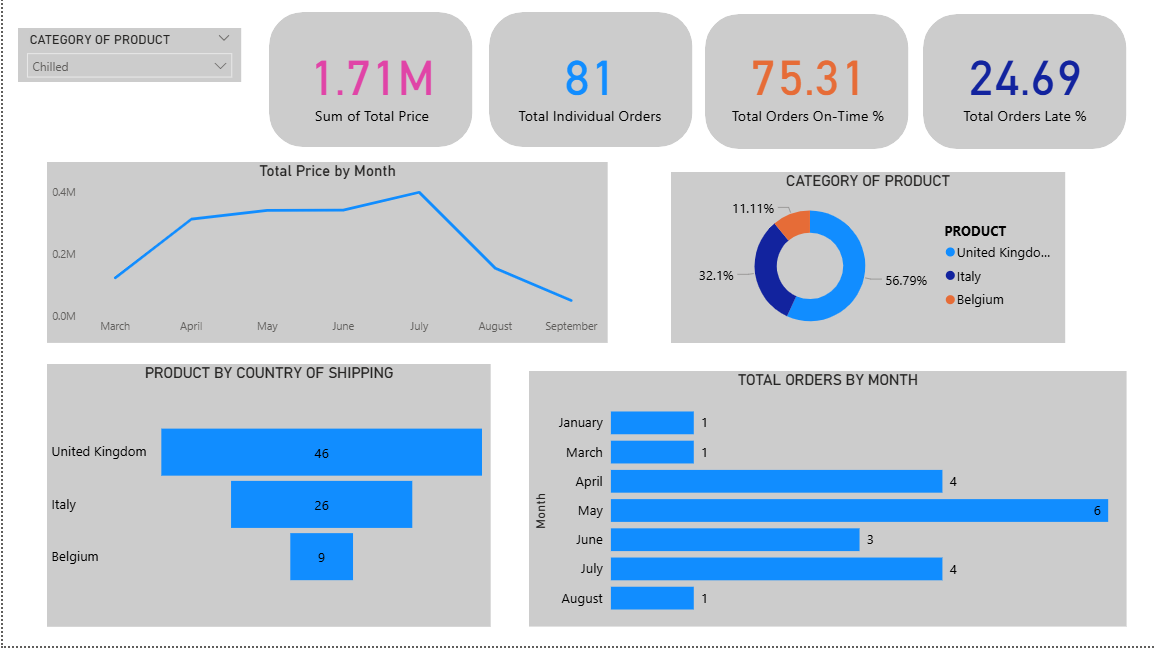

This screenshot's page, from the dashboard's own definition file:
{"tool":"powerbi","page":{"name":"CHILLED ITEMS","canvas":[1280,720],"ordinal":2},"visuals":[{"type":"shape","box":[1022,18,226,150],"z":0},{"type":"shape","box":[780,18,226,150],"z":1000},{"type":"shape","box":[540,16,226,150],"z":2000},{"type":"shape","box":[296,16,226,150],"z":3000},{"type":"slicer","fields":{"Values":["unique_category_of_product sheet.CATEGORY OF PRODUCT"]},"box":[16.7,33.3,247.8,60],"z":4000},{"type":"donutChart","title":"CATEGORY OF PRODUCT","fields":{"Y":["CountNonNull(deliveryScheduleCSV.PRODUCT)"],"Category":["deliveryScheduleCSV.COUNTRY OF SHIPPING"]},"box":[742.2,193.3,437.8,190],"z":5000},{"type":"barChart","title":"TOTAL ORDERS BY MONTH","fields":{"Y":["MeasureTable.Total Orders Late"],"Category":["deliveryScheduleCSV.DATE OF ORDER (D/M/Y).Variation.Date Hierarchy.Month"]},"box":[584,414,664,284],"z":6000},{"type":"card","fields":{"Values":["Sum(deliveryScheduleCSV.Total Price)"]},"box":[320,32,180,120],"z":7000},{"type":"funnel","title":"PRODUCT BY COUNTRY OF SHIPPING","fields":{"Y":["CountNonNull(deliveryScheduleCSV.PRODUCT)"],"Category":["unique_country_of_shipping sheet.COUNTRY OF SHIPPING"]},"box":[48.9,406.7,493.3,292.2],"z":8000},{"type":"card","fields":{"Values":["MeasureTable.Total Orders On-Time %"]},"box":[804,32,180,120],"z":9000},{"type":"card","fields":{"Values":["MeasureTable.Total Orders Late %"]},"box":[1046,32,180,120],"z":10000},{"type":"card","fields":{"Values":["MeasureTable.Total Individual Orders"]},"box":[562,32,180,120],"z":11000},{"type":"lineChart","title":"Total Price by Month","fields":{"Category":["deliveryScheduleCSV.ETA - WAREHOUSE DELIVERY.Variation.Date Hierarchy.Month"],"Y":["Sum(deliveryScheduleCSV.Total Price)"]},"box":[48.9,182.2,623.3,201.1],"z":11001}]}

Visuals, with their boxes in screenshot pixels (x1, y1, x2, y2), scaled from the page's 1280x720 canvas onto the 1154x648 screenshot:
shape: bbox(921, 16, 1125, 151)
shape: bbox(703, 16, 907, 151)
shape: bbox(487, 14, 691, 149)
shape: bbox(267, 14, 471, 149)
slicer - unique_category_of_product sheet.CATEGORY OF PRODUCT: bbox(15, 30, 238, 84)
"CATEGORY OF PRODUCT" donutChart: bbox(669, 174, 1064, 345)
"TOTAL ORDERS BY MONTH" barChart: bbox(527, 373, 1125, 628)
card - Sum(deliveryScheduleCSV.Total Price): bbox(288, 29, 451, 137)
"PRODUCT BY COUNTRY OF SHIPPING" funnel: bbox(44, 366, 489, 629)
card - MeasureTable.Total Orders On-Time %: bbox(725, 29, 887, 137)
card - MeasureTable.Total Orders Late %: bbox(943, 29, 1105, 137)
card - MeasureTable.Total Individual Orders: bbox(507, 29, 669, 137)
"Total Price by Month" lineChart: bbox(44, 164, 606, 345)
